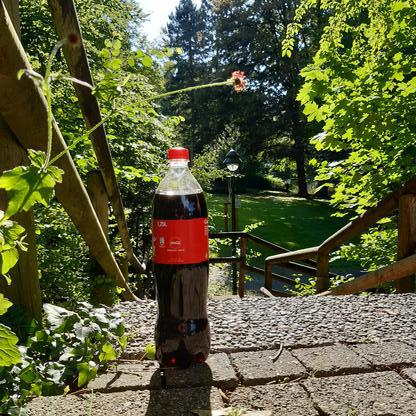coca-cola: (150, 145, 212, 371)
